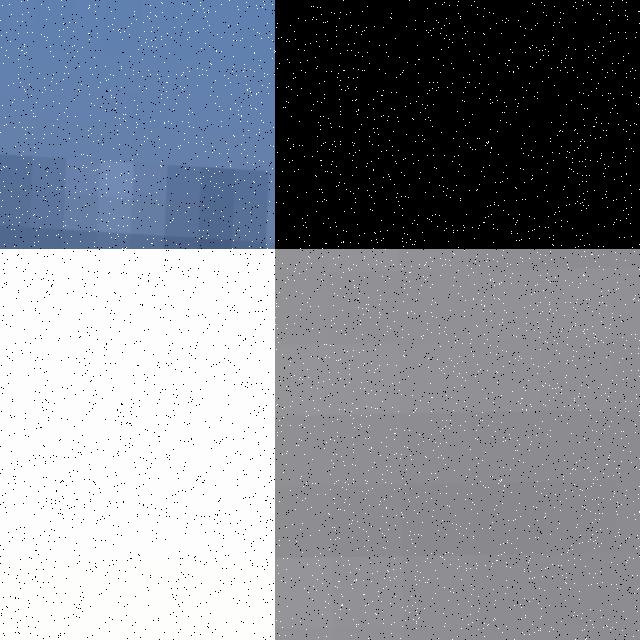0: (0, 0, 275, 249)
drone: (0, 552, 275, 640)
